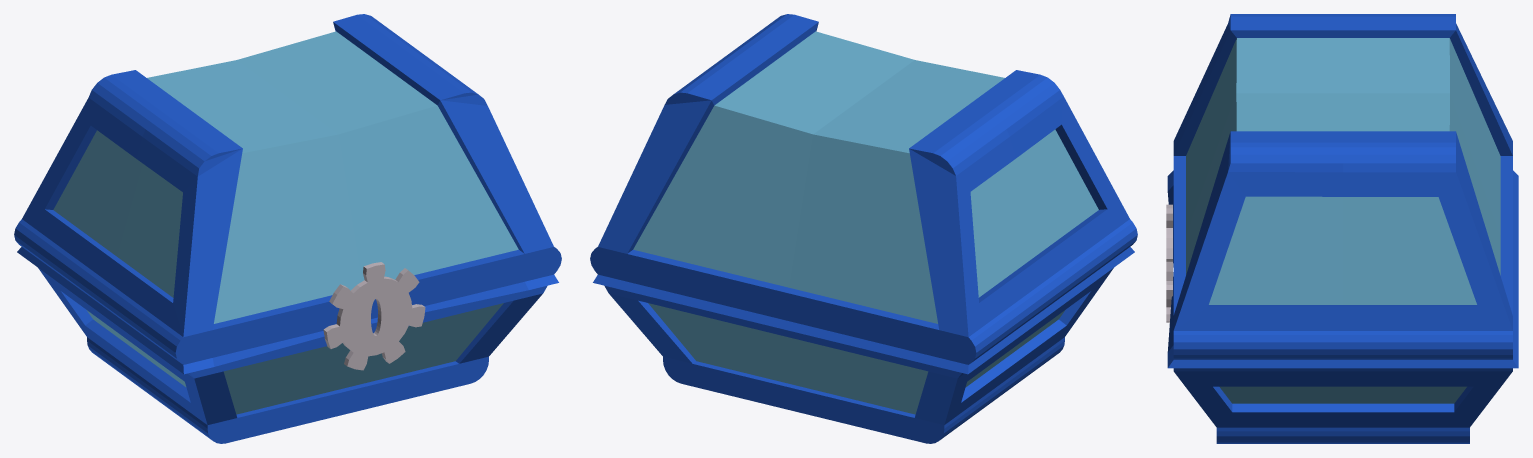
The model's file is baul.fbx.
3 renders of one model, left to right at view 1: azimuth 30°, elevation 25°; view 2: azimuth 150°, elevation 25°; view 3: azimuth 270°, elevation 25°, orthographic. The views are drawn at different scales.
Visible parts, largest first — view 1: Cube.001, Cube, Gear; view 2: Cube.001, Cube; view 3: Cube, Cube.001, Gear.
Boxes of the visible parts, left/top/right/bottom form: Cube.001: left=53, top=31, right=518, bottom=414; Cube: left=14, top=14, right=561, bottom=443; Gear: left=323, top=262, right=425, bottom=370; Cube.001: left=633, top=31, right=1098, bottom=414; Cube: left=590, top=14, right=1137, bottom=443; Cube: left=1167, top=14, right=1518, bottom=443; Cube.001: left=1186, top=38, right=1500, bottom=403; Gear: left=1166, top=204, right=1172, bottom=322.
Size of the model in its own units: 252 by 178 by 190.
